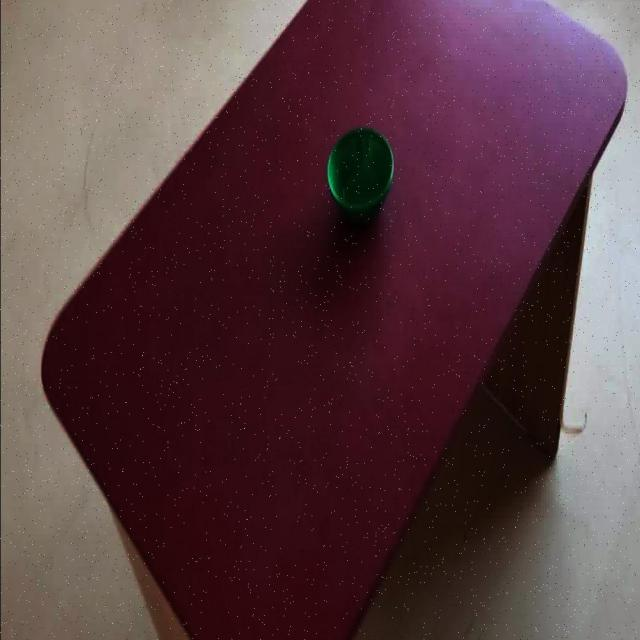Bowl: (41, 0, 630, 640), (327, 128, 394, 218)
